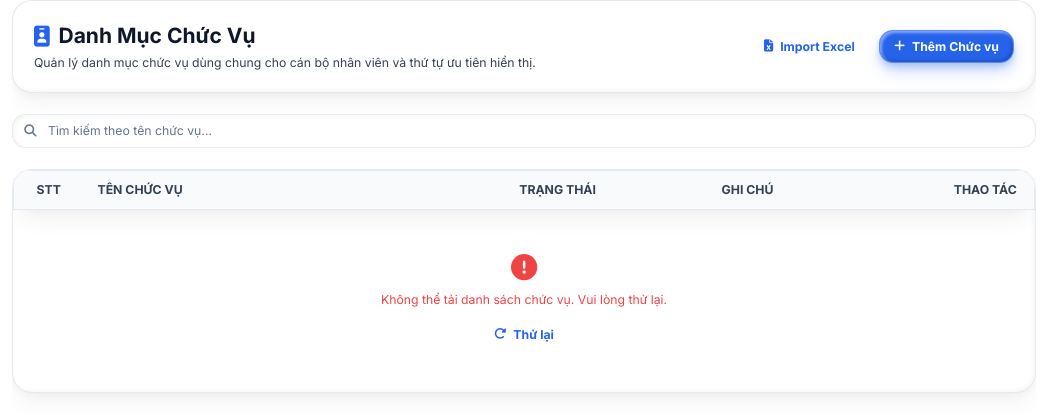
Test: PositionsPage (Issue #20) › shows an error state with retry that reloads the list
The image size is (1048, 415).
Check: the text "Không thể tải danh sách chức vụ. Vui lòng thử lại." is shown, box [381,292,667,306]
Step 1. Click the button "Thử lại" → (524, 334), box [480,318,568,350]
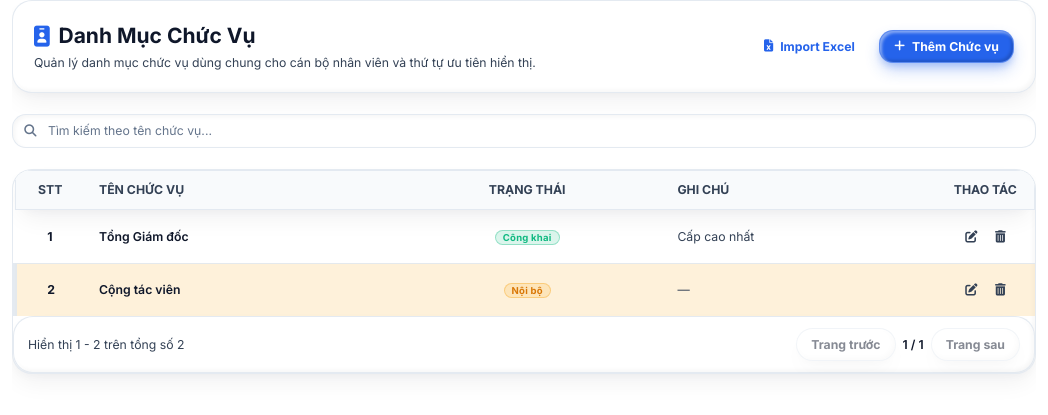
Check: the text "Tổng Giám đốc" is shown, box [85,210,391,263]
